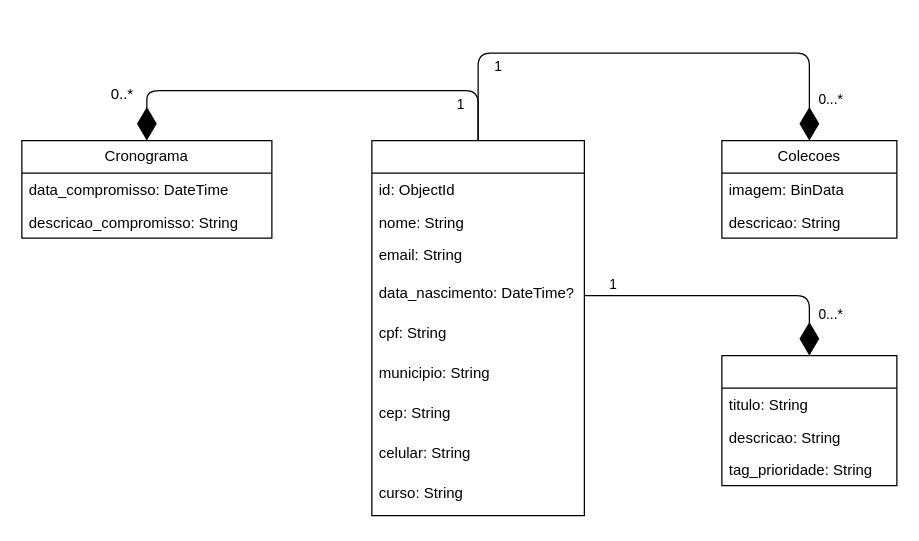
Image size: 919x541. Some labels were removed from this diagram. The box of each missing label's shape, as (x1, y1, x2, y2) in pixels:
Lembretes: (721, 354, 897, 486)
Usuario: (371, 139, 584, 516)
